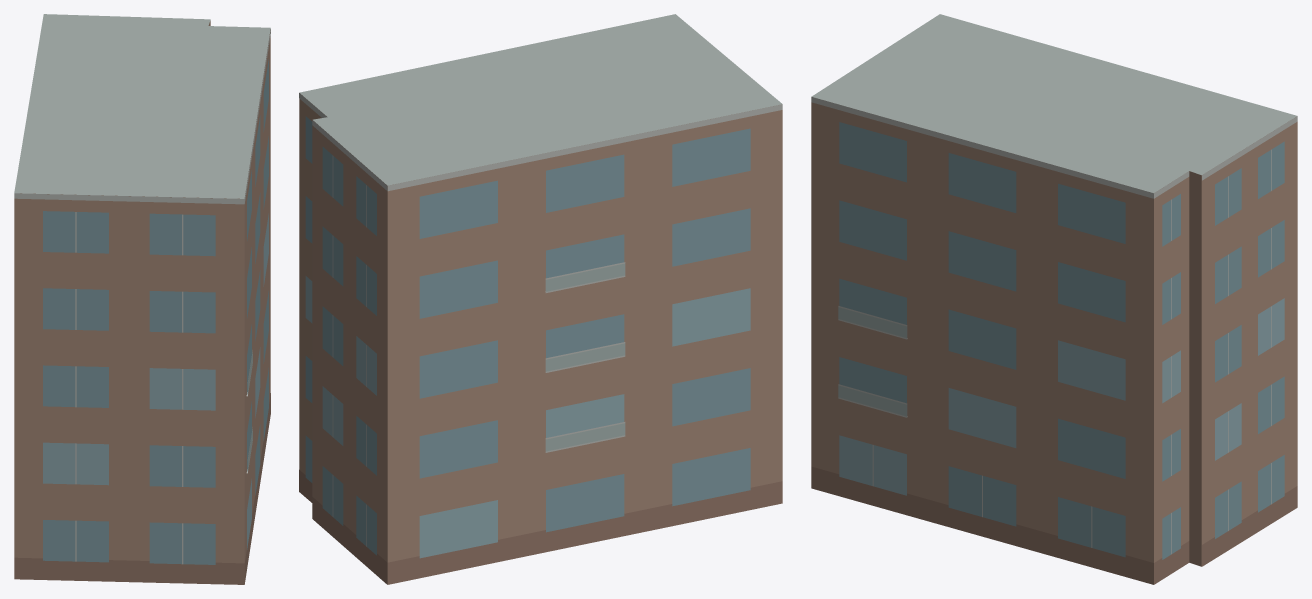
Rendered from survey-upis-32560720.glb.
3 renders of one model, left to right at view 1: azimuth 30°, elevation 25°; view 2: azimuth 150°, elevation 25°; view 3: azimuth 270°, elevation 25°, orthographic. The views are drawn at different scales.
Parts seen in each view (by area): view 1: survey-upis-32560720.tmp; view 2: survey-upis-32560720.tmp; view 3: survey-upis-32560720.tmp.
Boxes of the visible parts, left/top/right/bottom form: survey-upis-32560720.tmp: left=14, top=14, right=270, bottom=584; survey-upis-32560720.tmp: left=299, top=14, right=782, bottom=584; survey-upis-32560720.tmp: left=811, top=14, right=1297, bottom=584.
Size of the model in its own units: 16.89 by 17.2 by 19.37.
